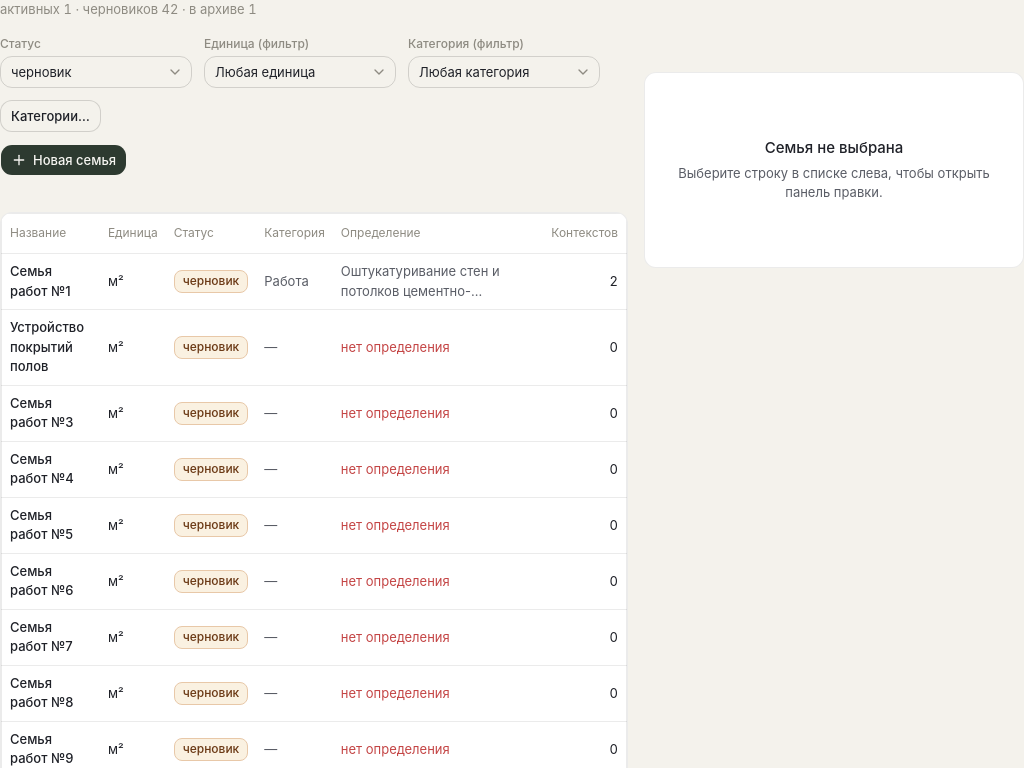
Test: FamiliesTab › статус печатается словом — ни в строке списка, ни в фильтре нет кода draft/active/archived
The width and height of the screenshot is (1024, 768).
Expected: the text "Семья работ №3" is shown, [2,385,100,441]
Expected: the text "черновик" below "Единица (фильтр)" is shown, [11,64,72,80]
Фильтр — раскрыть и проверить слова у ВСЕХ вариантов.
Click the dropdown named "Статус" at (96, 72), box [0,56,192,88]
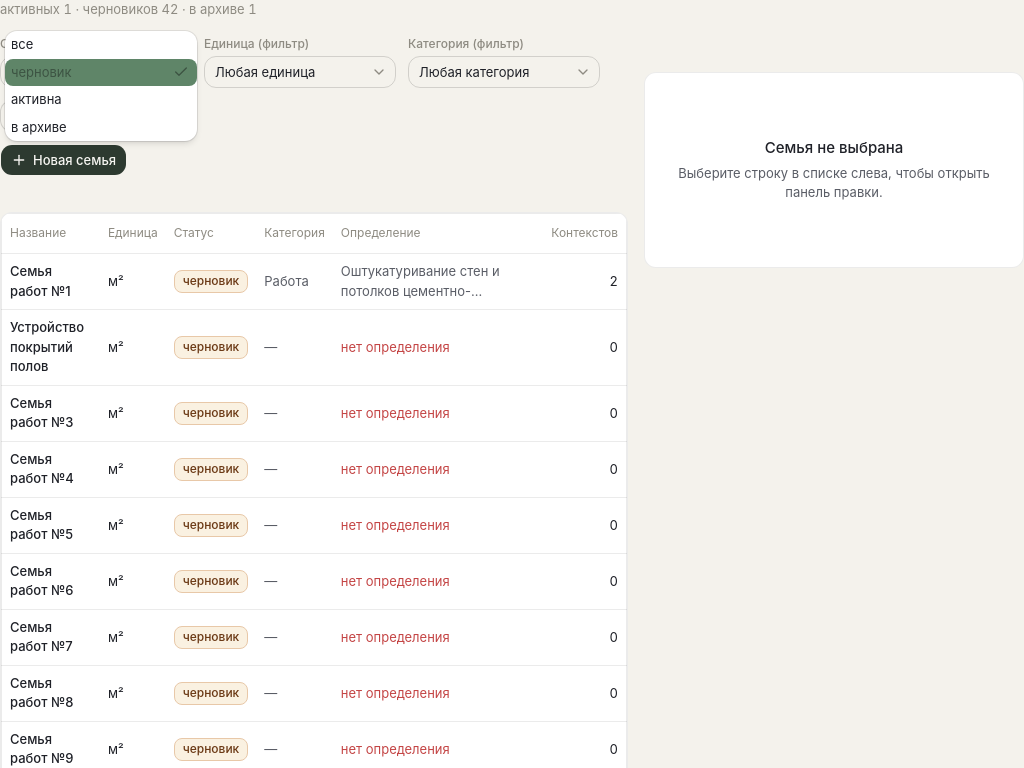
Now the text "все" is shown, box [11,36,33,52]
Now the text "активна" is shown, box [11,91,62,107]
Now the text "в архиве" is shown, box [11,118,67,134]
Press Escape
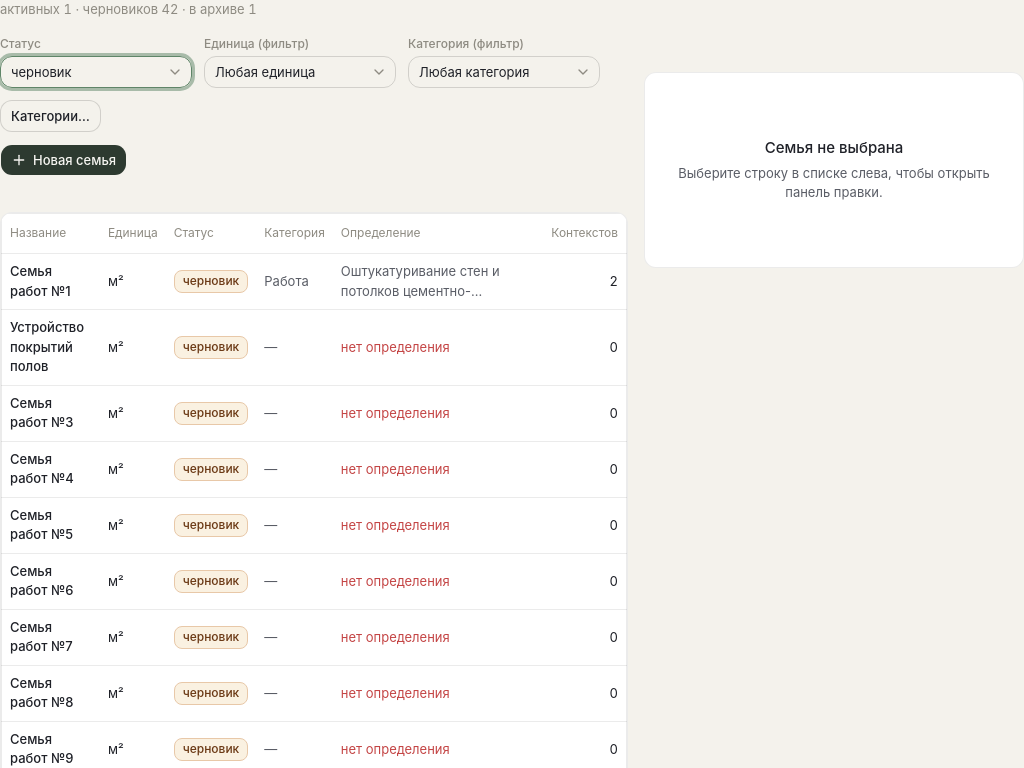
Click the text "Семья работ №3" at (51, 413), box [2,385,100,441]
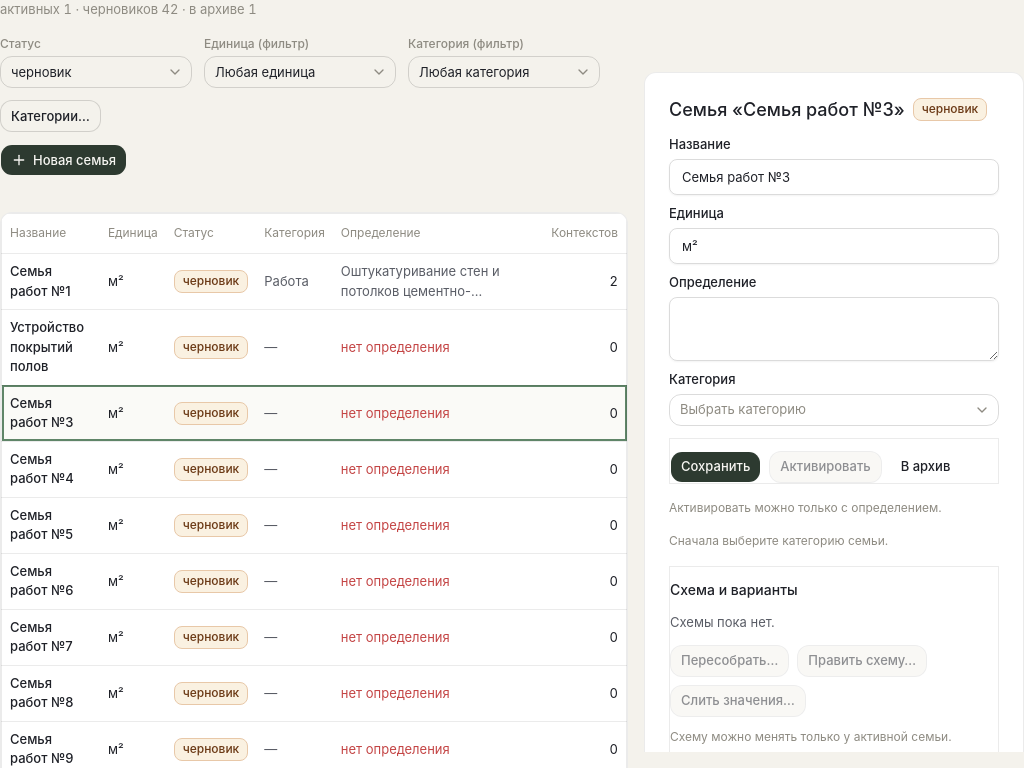
Now the text "черновик" in the row of "Семья «" is shown, box [922,101,978,116]
